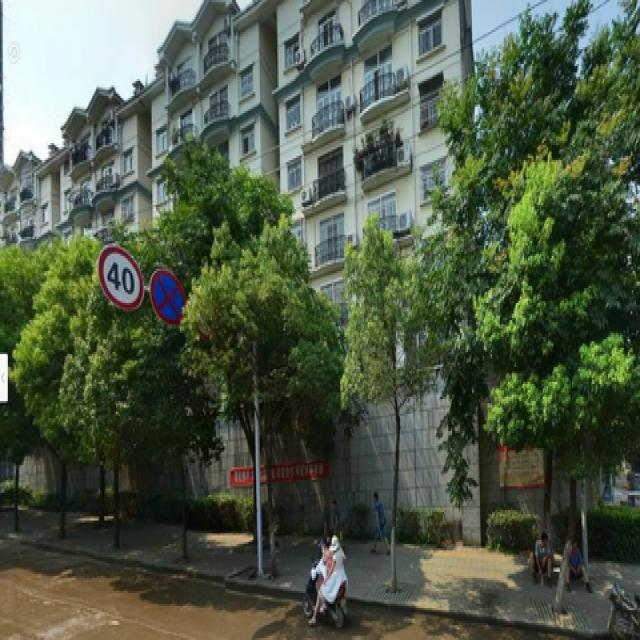cinn: (509, 188, 615, 593), (215, 256, 313, 567), (356, 254, 435, 580), (32, 252, 93, 533)
